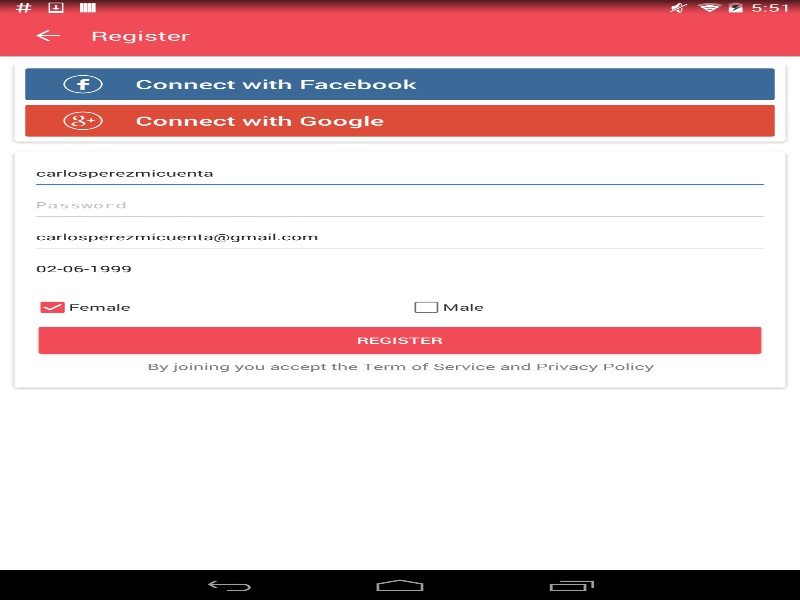Button: (10, 15, 85, 55)
Input: (36, 162, 764, 189), (36, 225, 764, 252), (36, 257, 764, 284), (36, 194, 764, 220)
